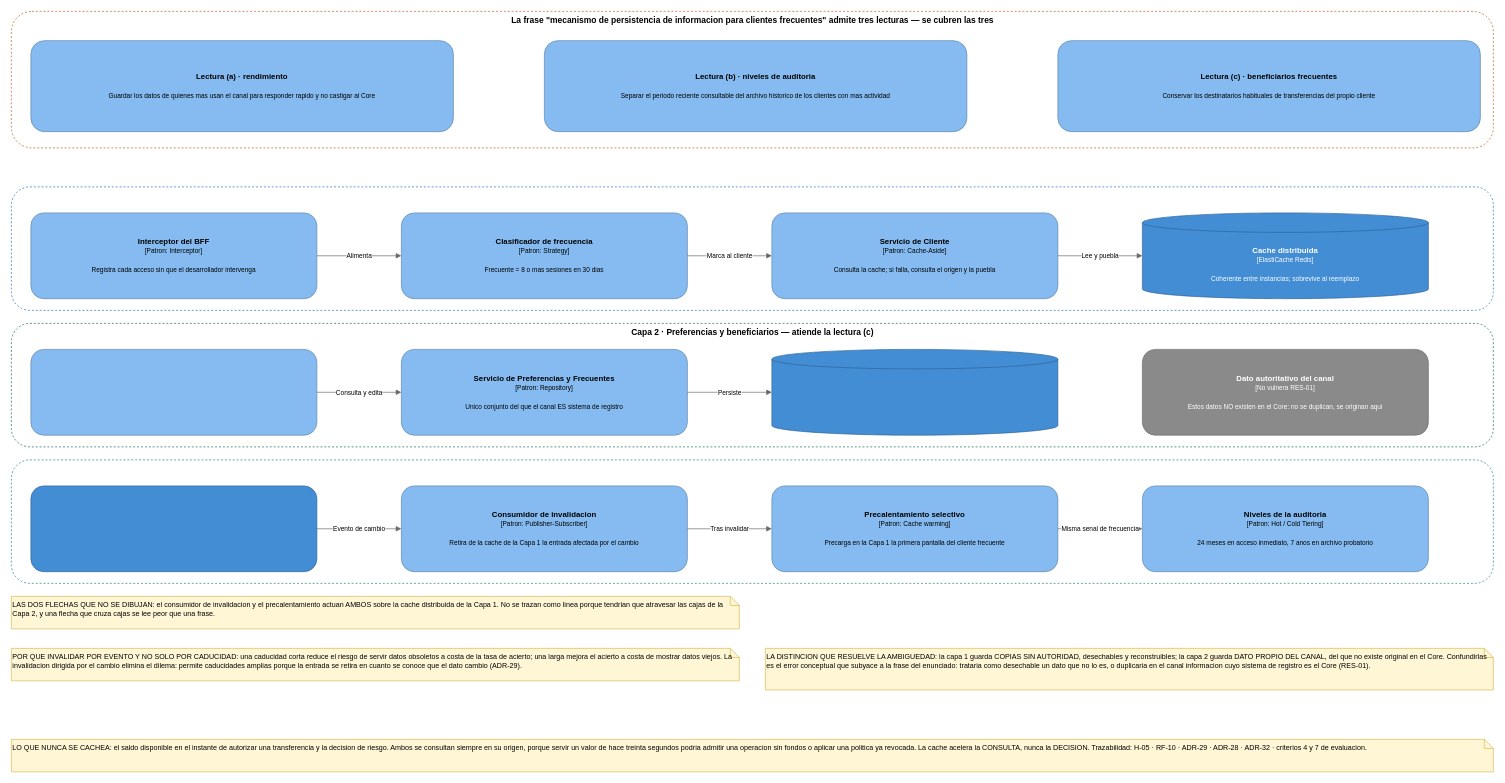
Some shapes in this 1505 by 783 pixel diagram are drawn without their labels. The box of each missing label's shape, as (x1, y1, x2, y2) in pixels:
Aplicacion de canal [Web y movil] Muestra y edita los destinatarios habituales: (30, 349, 317, 435)
Base de preferencias [Aurora PostgreSQL] Beneficiarios, alias y canales de aviso: (771, 349, 1058, 435)
Bus de eventos [Amazon MSK] Publica todo cambio de cliente y de movimiento: (30, 485, 317, 572)
Capa 1 · Cache de datos de cliente — atiende la lectura (a): (11, 186, 1493, 310)
Capa 3 · Invalidacion, precalentamiento y niveles — atiende la lectura (b): (11, 459, 1493, 583)
